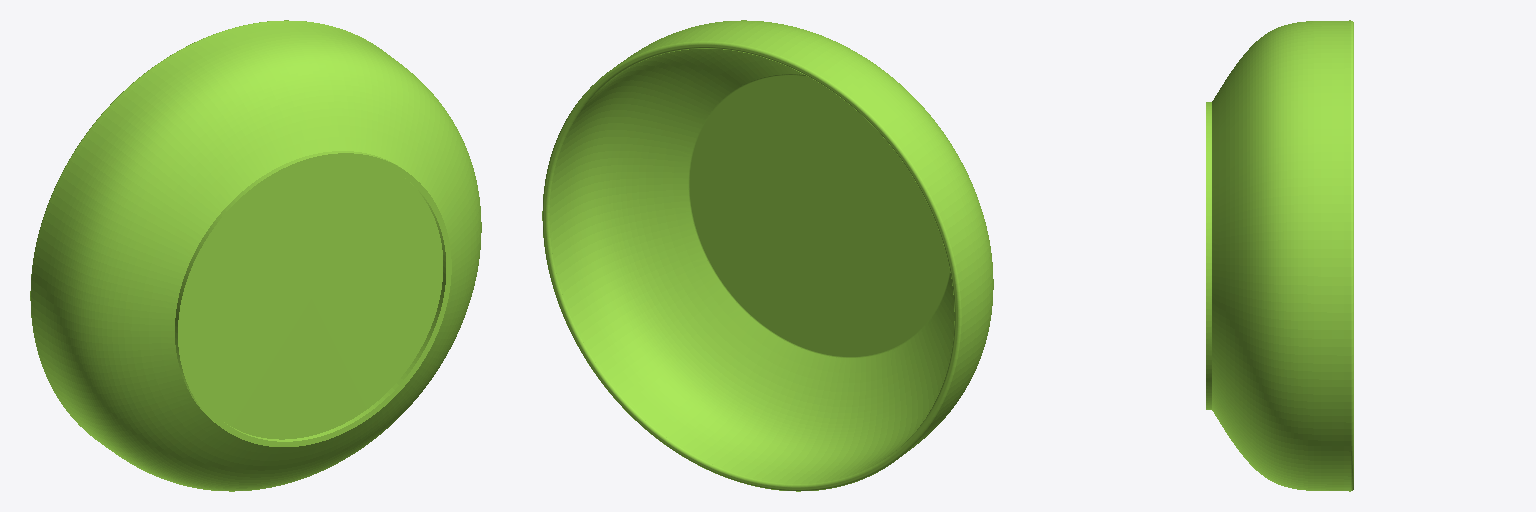
robot.urdf — plate.urdf:
<?xml version="0.0"?>
<robot name="plate.urdf">
    <link name="base_link">

        <contact>
        <lateral_friction value="1.0"/>
        </contact>

        <visual>
            <geometry>
                <mesh filename="plate.obj" scale="1 1 1"/>
            </geometry>
            <material name="green">
                <color rgba="0.67 0.91 0.36 1"/>
            </material>
        </visual>

        <collision>
            <geometry>
                <mesh filename="plate_vhacd2.obj" scale="1 1 1"/>
            </geometry>
            <bullet collisionMargin="0.0001" mesh="gimpact"/>
        </collision>

        <inertial>
            <mass value="0.3"/>
            <origin xyz="0 0 0"/>
            <inertia ixx="0.01" ixy="0" ixz="0" iyy="0.01" iyz="0" izz="0.01"/>
        </inertial>
    </link>
</robot>

--- Facts derived from the render (not from the file) ---
Views: 3 orthographic renders of the robot side by side, from view 1: azimuth 30°, elevation 25°; view 2: azimuth 150°, elevation 25°; view 3: azimuth 270°, elevation 25°.
Model plate.urdf with 1 links and 0 joints (none), rooted at base_link, posed all joints at 0.
Links seen in each view (by area): view 1: base_link; view 2: base_link; view 3: base_link.
Link boxes in pixels (box(x1,y1,x2,y2)): base_link: box(30, 20, 481, 491); base_link: box(542, 20, 993, 491); base_link: box(1206, 20, 1353, 491).
Bounding box of the posed robot: 318 × 100 × 318 m (x, y, z).
1 mesh visuals loaded from 1 distinct referenced files (1 OBJ).